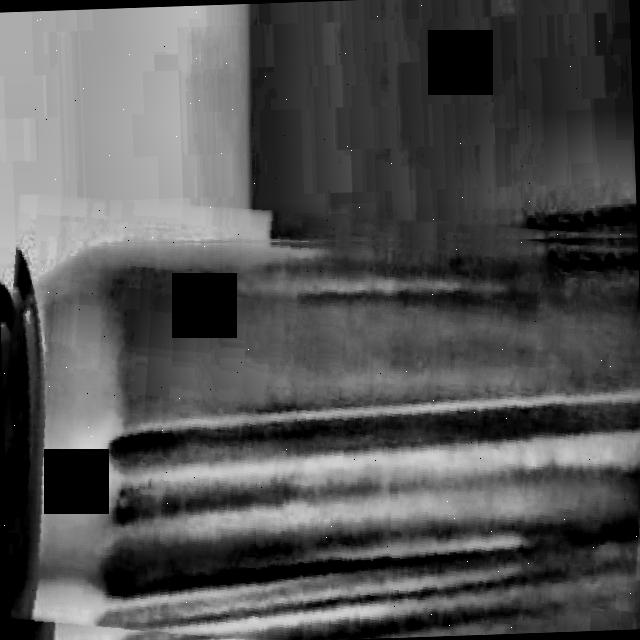bottle: (3, 241, 640, 640)
